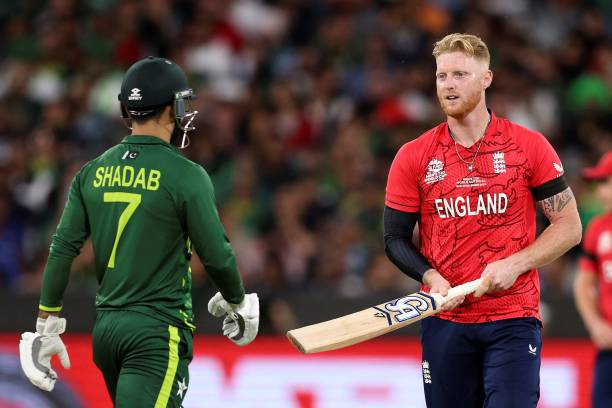bottom left: (281, 325, 297, 343)
bottom right: (301, 337, 319, 362)
top left: (412, 282, 427, 299)
top right: (432, 300, 450, 315)
